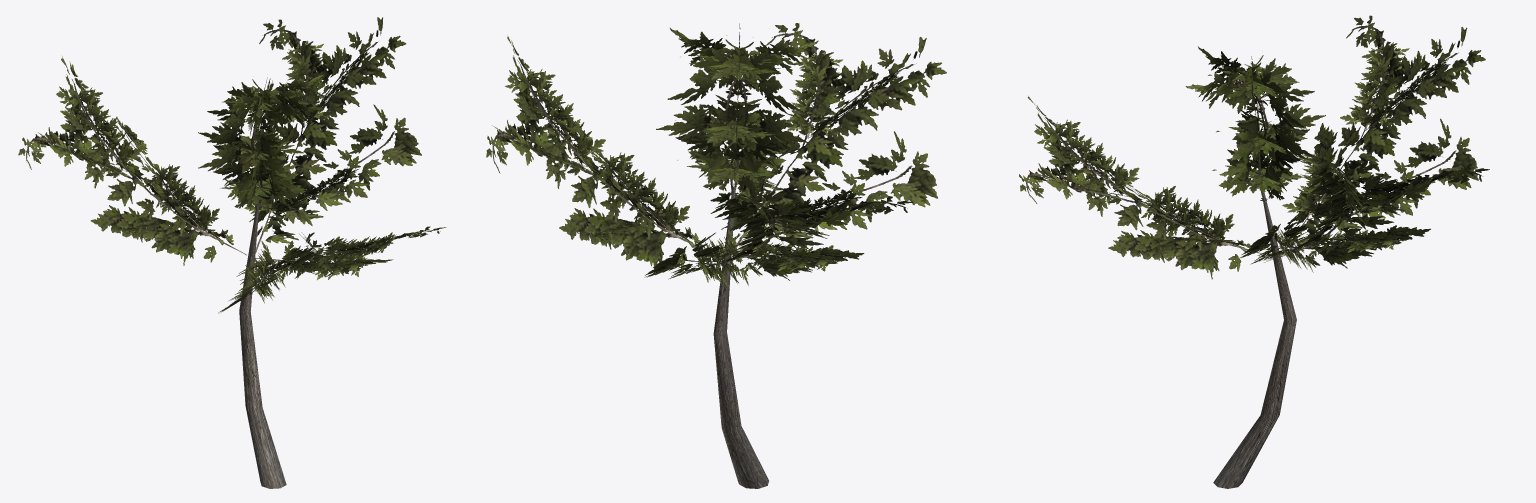
The model's file is Sharp_Maple03.gltf.
The picture shows the model from 3 angles, left to right: view 1: azimuth 30°, elevation 25°; view 2: azimuth 150°, elevation 25°; view 3: azimuth 270°, elevation 25°; orthographic projection. The views are drawn at different scales.
Visible parts, largest first — view 1: Bfol, Dfol, Afol, Cfol, Trunk; view 2: Cfol, Bfol, Afol, Dfol, Trunk; view 3: Dfol, Cfol, Afol, Bfol, Trunk.
Boxes of the visible parts, x1,y1,x2,y2 form: Bfol: (244, 17, 421, 253); Dfol: (18, 56, 246, 265); Afol: (198, 73, 324, 211); Cfol: (218, 226, 446, 313); Trunk: (239, 203, 286, 488); Cfol: (721, 23, 946, 254); Bfol: (486, 36, 719, 272); Afol: (656, 23, 818, 195); Dfol: (644, 175, 913, 286); Trunk: (713, 187, 768, 488); Dfol: (1282, 15, 1485, 254); Cfol: (1019, 96, 1261, 279); Afol: (1185, 46, 1325, 202); Bfol: (1240, 148, 1489, 272); Trunk: (1213, 193, 1296, 488).
Size of the model in its own units: 5.12 by 4.91 by 5.24.
Materials: 2 (2 with a texture image).
